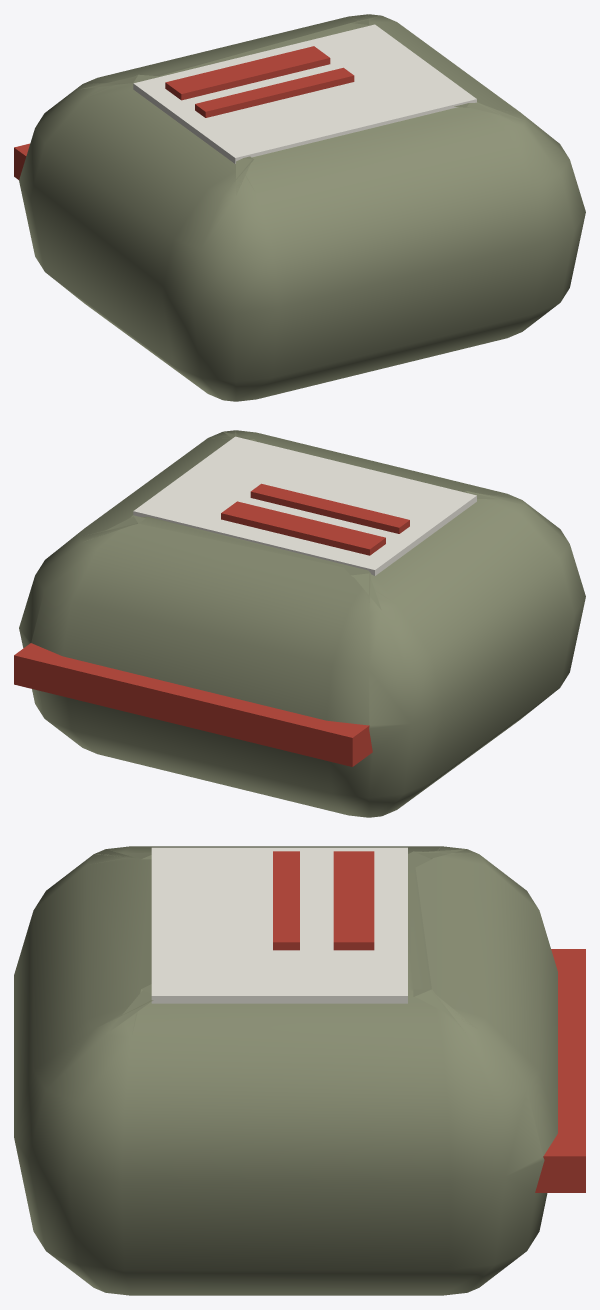
File: field_dressing.glb
3 renders of one model, top to bottom at view 1: azimuth 30°, elevation 25°; view 2: azimuth 150°, elevation 25°; view 3: azimuth 270°, elevation 25°, orthographic. The views are drawn at different scales.
Parts seen in each view (by area): view 1: body, label; view 2: body, label; view 3: body, label.
Boxes of the visible parts, left/top/right/bottom form: body: left=14, top=14, right=585, bottom=401; label: left=133, top=24, right=476, bottom=163; body: left=14, top=430, right=585, bottom=817; label: left=133, top=436, right=476, bottom=575; body: left=14, top=846, right=585, bottom=1295; label: left=151, top=847, right=407, bottom=1003.
Size of the model in its own units: 0.0444 by 0.0248 by 0.0424.
